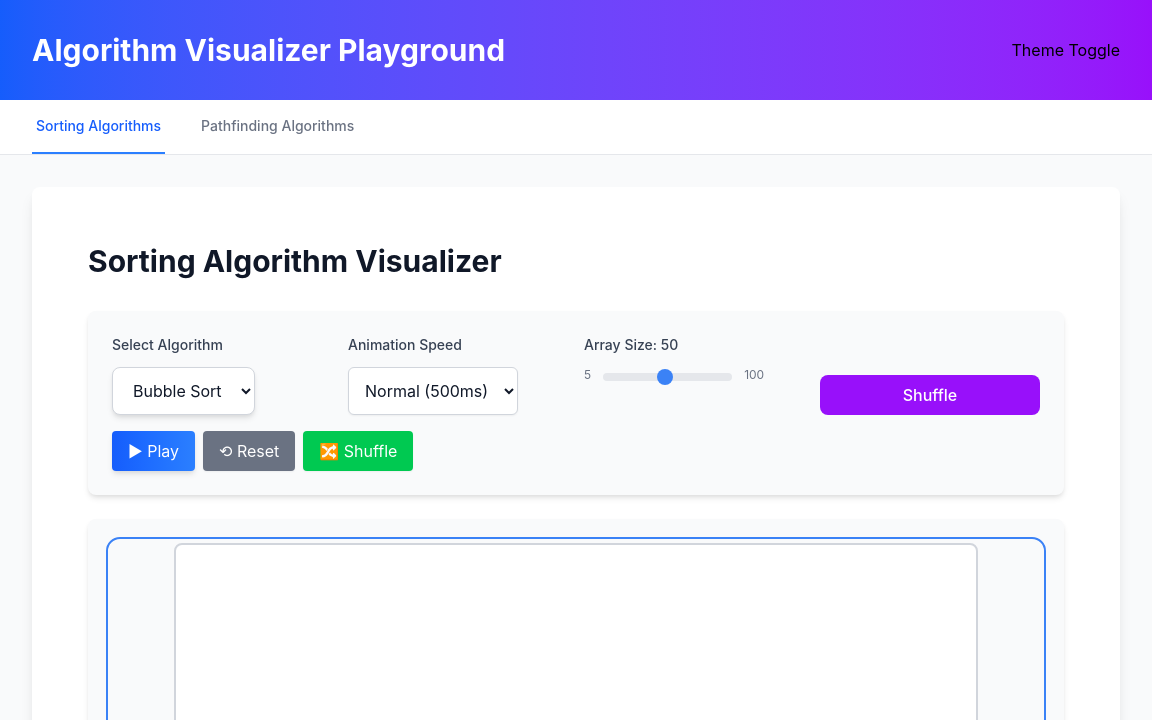
Test: App › Tab Navigation › should switch to pathfinding tab when clicked
Click the button "Pathfinding Algorithms": [278, 127] box [197, 100, 358, 154]
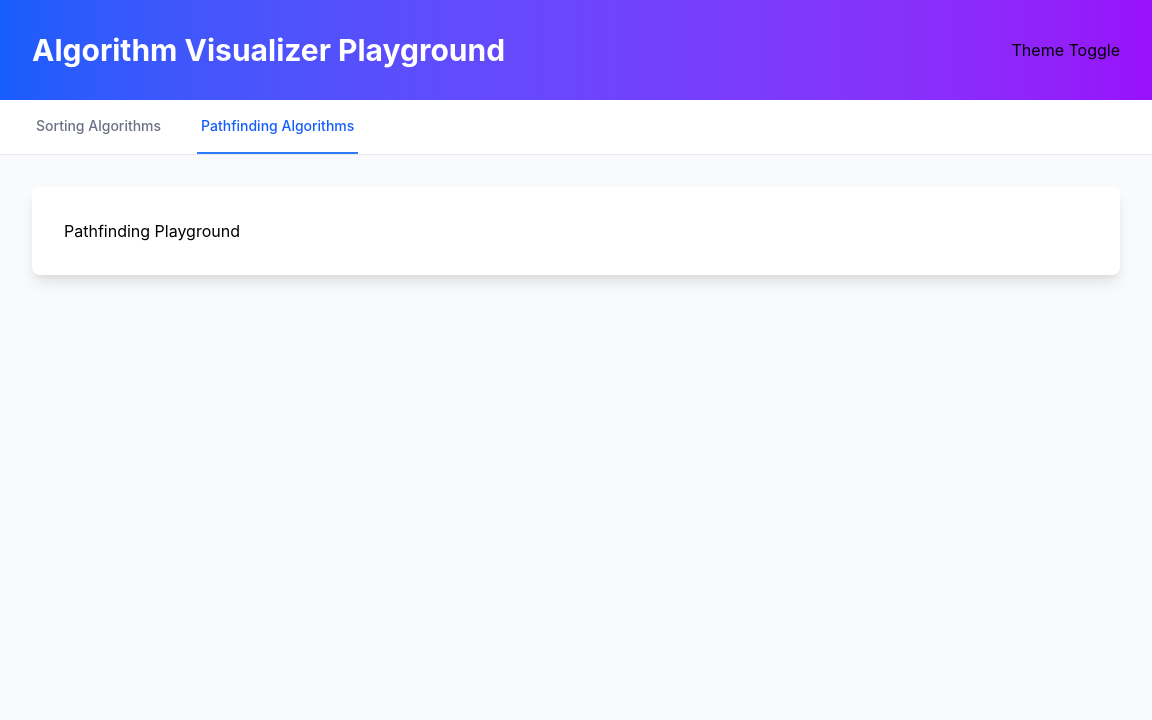
Expected: the text "Pathfinding Playground" is shown, [64, 221, 240, 241]
